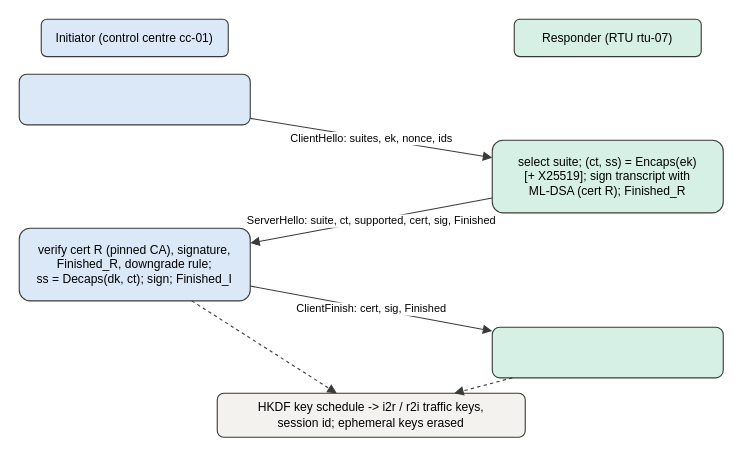
This 743x457 diagram has some shape labels left out. The shapes that lost their labels are listed below. From the top down, each one's centre as x and y in pixels, then its label:
At pixel 134 99: "ephemeral ML-KEM keypair (ek, dk) [+ X25519 share]; offered suites".
At pixel 607 352: "verify cert I, signature, Finished_I -> traffic secrets".
